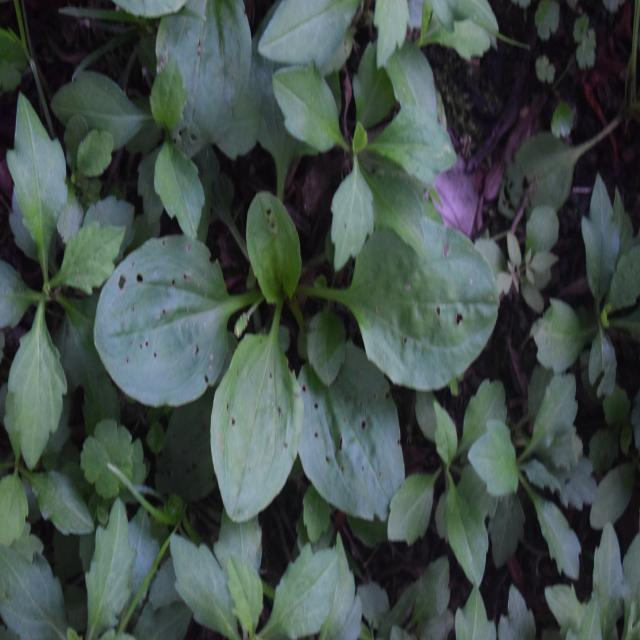plantain: (93, 134, 460, 537)
